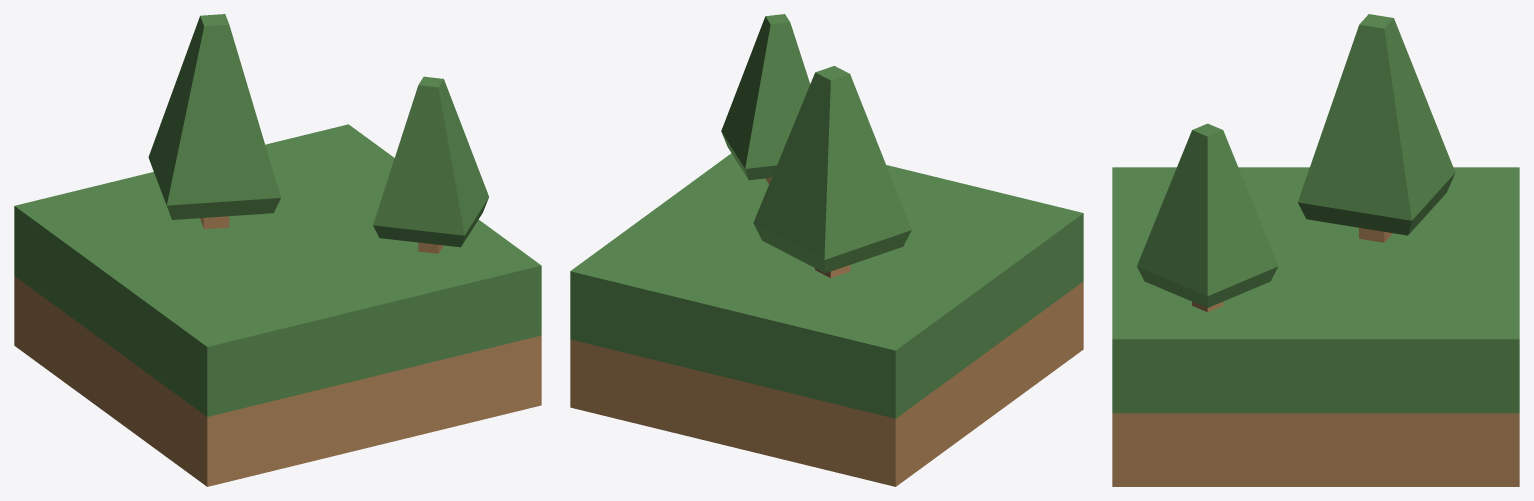
Rendered from towerDefense_064.obj.
The picture shows the model from 3 angles, left to right: view 1: azimuth 30°, elevation 25°; view 2: azimuth 150°, elevation 25°; view 3: azimuth 270°, elevation 25°; orthographic projection. The views are drawn at different scales.
Parts seen in each view (by area): view 1: Mesh3 Group1 Model, Mesh1 Component_2_1 Group1 Model, Mesh2 Component_2_2 Group1 Model; view 2: Mesh3 Group1 Model, Mesh1 Component_2_1 Group1 Model, Mesh2 Component_2_2 Group1 Model; view 3: Mesh3 Group1 Model, Mesh1 Component_2_1 Group1 Model, Mesh2 Component_2_2 Group1 Model.
Part boxes in pixels (box(x1,y1,x2,y2)): Mesh3 Group1 Model: box(14, 124, 541, 486); Mesh1 Component_2_1 Group1 Model: box(148, 14, 280, 229); Mesh2 Component_2_2 Group1 Model: box(373, 76, 488, 253); Mesh3 Group1 Model: box(570, 153, 1083, 486); Mesh1 Component_2_1 Group1 Model: box(753, 66, 911, 277); Mesh2 Component_2_2 Group1 Model: box(721, 14, 810, 183); Mesh3 Group1 Model: box(1112, 167, 1519, 486); Mesh1 Component_2_1 Group1 Model: box(1297, 14, 1455, 242); Mesh2 Component_2_2 Group1 Model: box(1137, 123, 1278, 312).
Bounding box in the file's own units: 1 × 0.9802 × 1.
